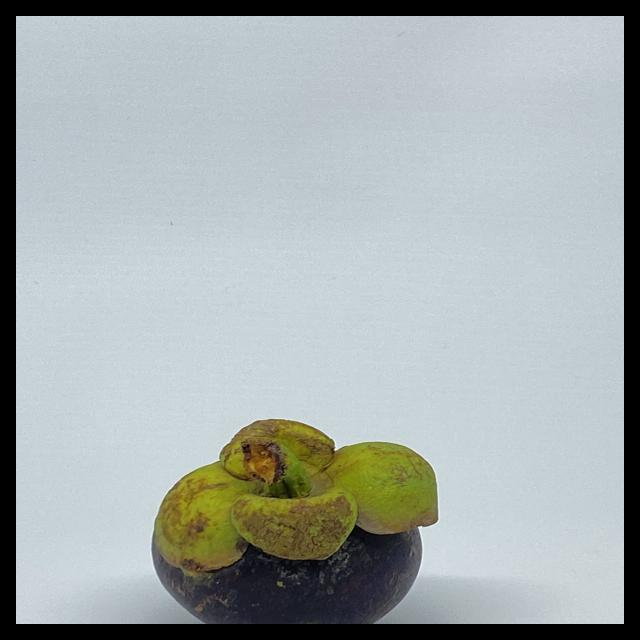mangosteen: (139, 386, 470, 624)
